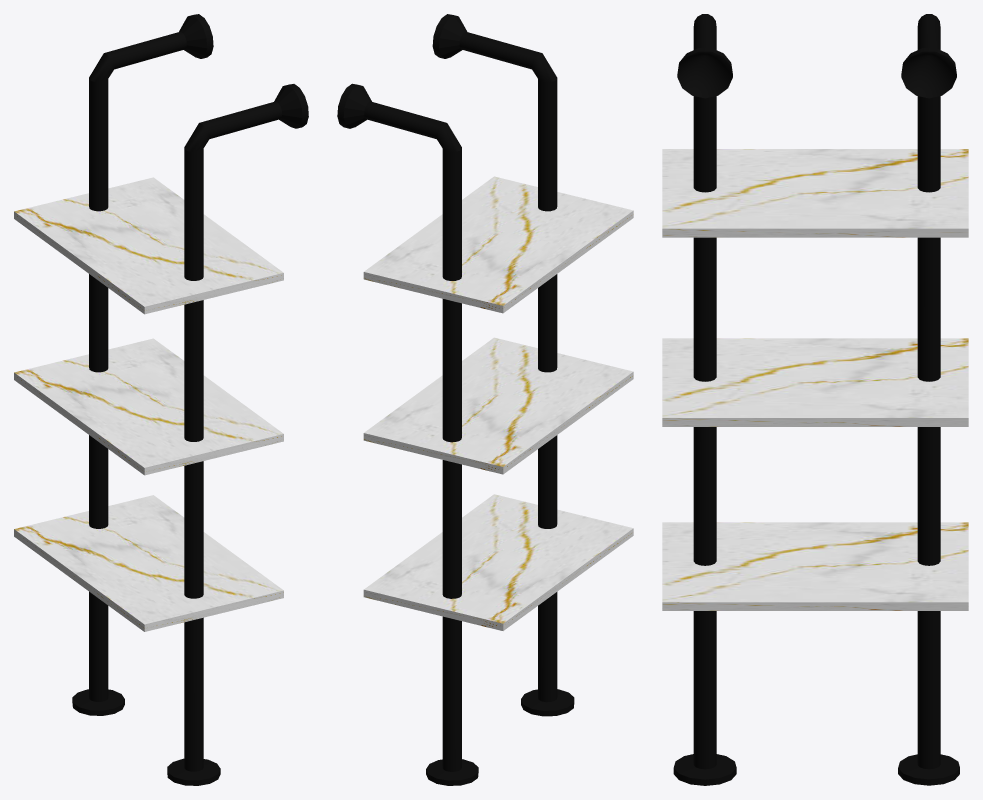
File: BOOKSHELF.fbx
The picture shows the model from 3 angles, left to right: view 1: azimuth 30°, elevation 25°; view 2: azimuth 150°, elevation 25°; view 3: azimuth 270°, elevation 25°; orthographic projection. The views are drawn at different scales.
Parts seen in each view (by area): view 1: pCube4, pCylinder28; view 2: pCube4, pCylinder28; view 3: pCube4, pCylinder28.
Part boxes in pixels (x1,y1,x2,y2): pCube4: (14,177,283,631); pCylinder28: (72,14,308,785); pCube4: (363,176,633,630); pCylinder28: (337,14,574,785); pCube4: (662,149,968,610); pCylinder28: (673,14,959,785).
Size of the model in its own units: 22.99 by 85.37 by 30.4.
Materials: 2 (1 with a texture image).
